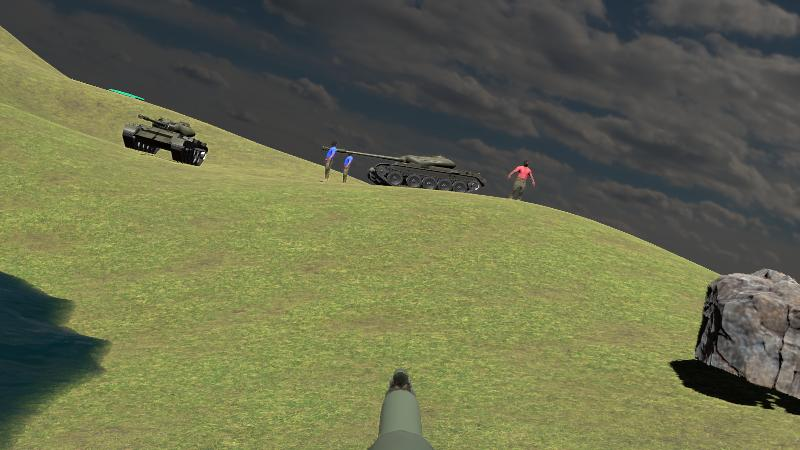Human: (508, 159, 535, 209)
Tank: (320, 145, 486, 196), (122, 114, 208, 166)
